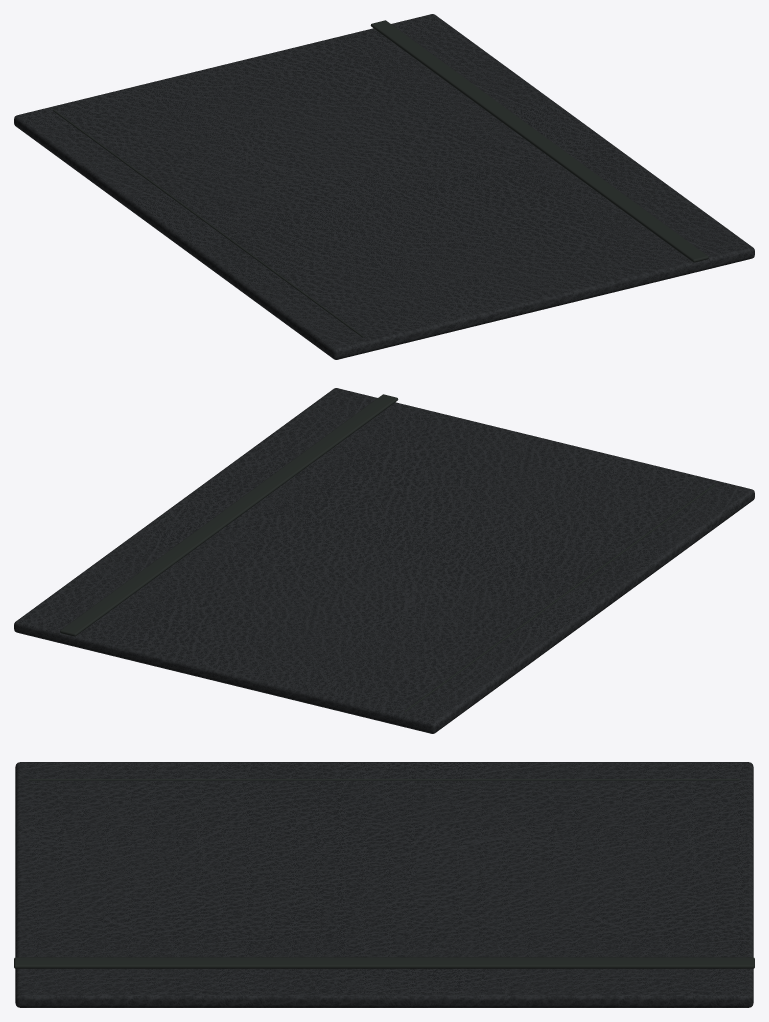
Rendered from notebook-cover.glb.
3 views of the same model, one above another, from view 1: azimuth 30°, elevation 25°; view 2: azimuth 150°, elevation 25°; view 3: azimuth 270°, elevation 25° (orthographic). The views are drawn at different scales.
Visible parts, largest first — view 1: notebook-cover / Worn matte black leather, notebook-cover / Woven charcoal elastic; view 2: notebook-cover / Worn matte black leather, notebook-cover / Woven charcoal elastic; view 3: notebook-cover / Worn matte black leather, notebook-cover / Woven charcoal elastic.
Boxes of the visible parts, left/top/right/bottom form: notebook-cover / Worn matte black leather: left=14, top=14, right=754, bottom=359; notebook-cover / Woven charcoal elastic: left=53, top=20, right=708, bottom=337; notebook-cover / Worn matte black leather: left=14, top=388, right=754, bottom=733; notebook-cover / Woven charcoal elastic: left=60, top=394, right=715, bottom=711; notebook-cover / Worn matte black leather: left=15, top=762, right=753, bottom=1007; notebook-cover / Woven charcoal elastic: left=14, top=779, right=754, bottom=968.
Size of the model in its own units: 3.72 by 0.1251 by 4.94.
Materials: 2 (1 with a texture image).
